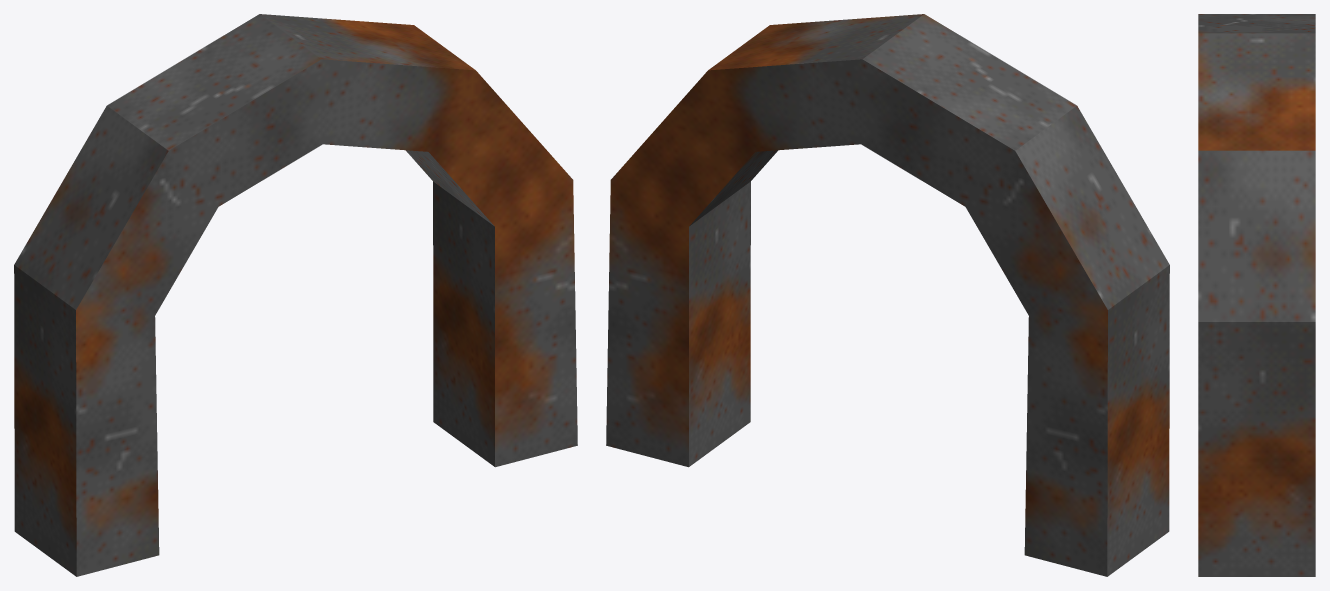
The model's file is Lock.001.fbx.
The picture shows the model from 3 angles, left to right: view 1: azimuth 30°, elevation 25°; view 2: azimuth 150°, elevation 25°; view 3: azimuth 270°, elevation 25°; orthographic projection. The views are drawn at different scales.
Parts seen in each view (by area): view 1: Lock.001; view 2: Lock.001; view 3: Lock.001.
Boxes of the visible parts, <box> form: Lock.001: <box>14,14,577,576</box>; Lock.001: <box>606,14,1169,576</box>; Lock.001: <box>1198,14,1315,576</box>.
Size of the model in its own units: 0.1526 by 0.1331 by 0.0326.
Materials: 1 (1 with a texture image).
